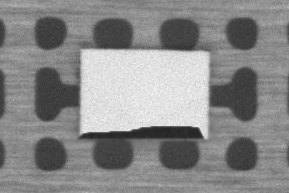DIE_BROKEN: (80, 123, 207, 141)
